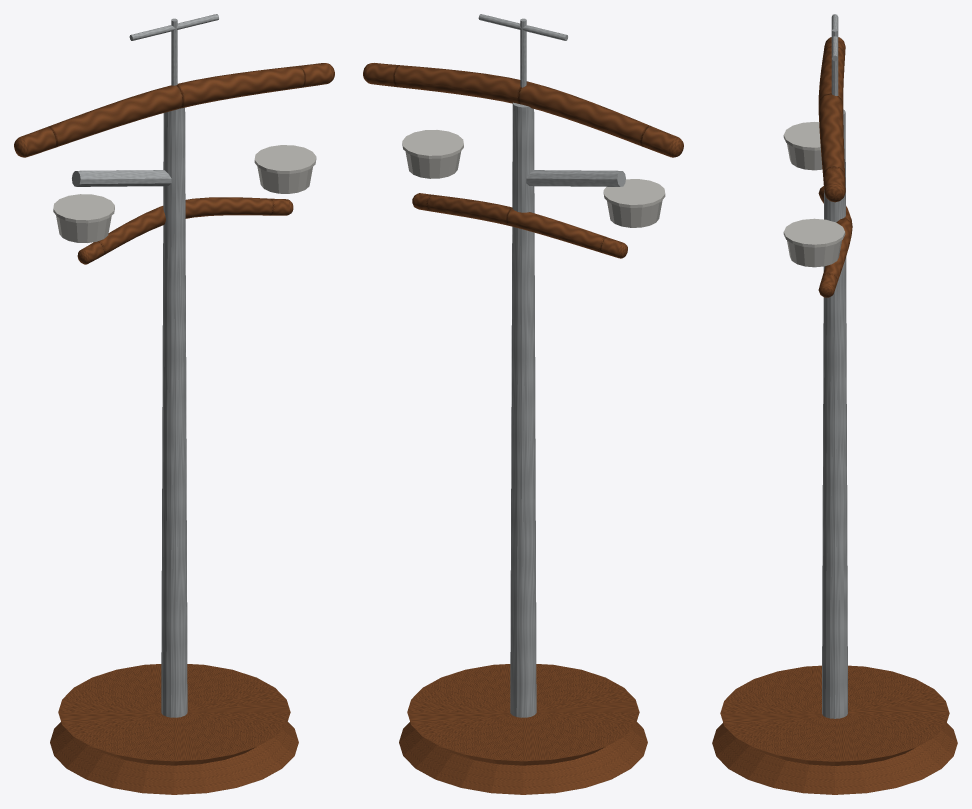
Rendered from birds-and-reptiles-hd-aviary-perch-stand-ab32e4f3__28123.glb.
3 renders of one model, left to right at view 1: azimuth 30°, elevation 25°; view 2: azimuth 150°, elevation 25°; view 3: azimuth 270°, elevation 25°, orthographic.
Parts seen in each view (by area): view 1: aviary-perch-stand; view 2: aviary-perch-stand; view 3: aviary-perch-stand.
Part boxes in pixels (box(x1,y1,x2,y2)): aviary-perch-stand: box(14, 14, 334, 794); aviary-perch-stand: box(363, 14, 683, 794); aviary-perch-stand: box(712, 14, 957, 794).
Size of the model in its own units: 0.8841 by 1.92 by 0.5999.
Materials: 3 (2 with a texture image).
